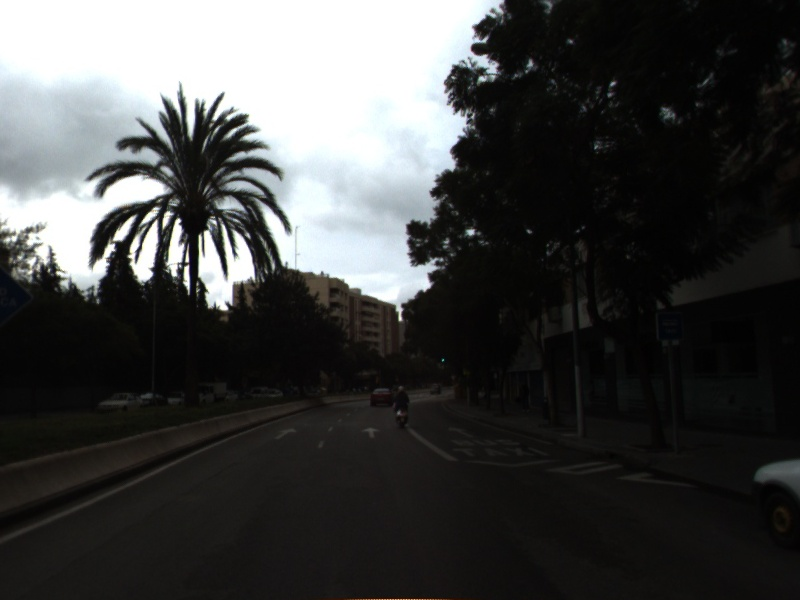STRAIGHT: (446, 425, 475, 439), (272, 426, 299, 441), (360, 425, 383, 440)
